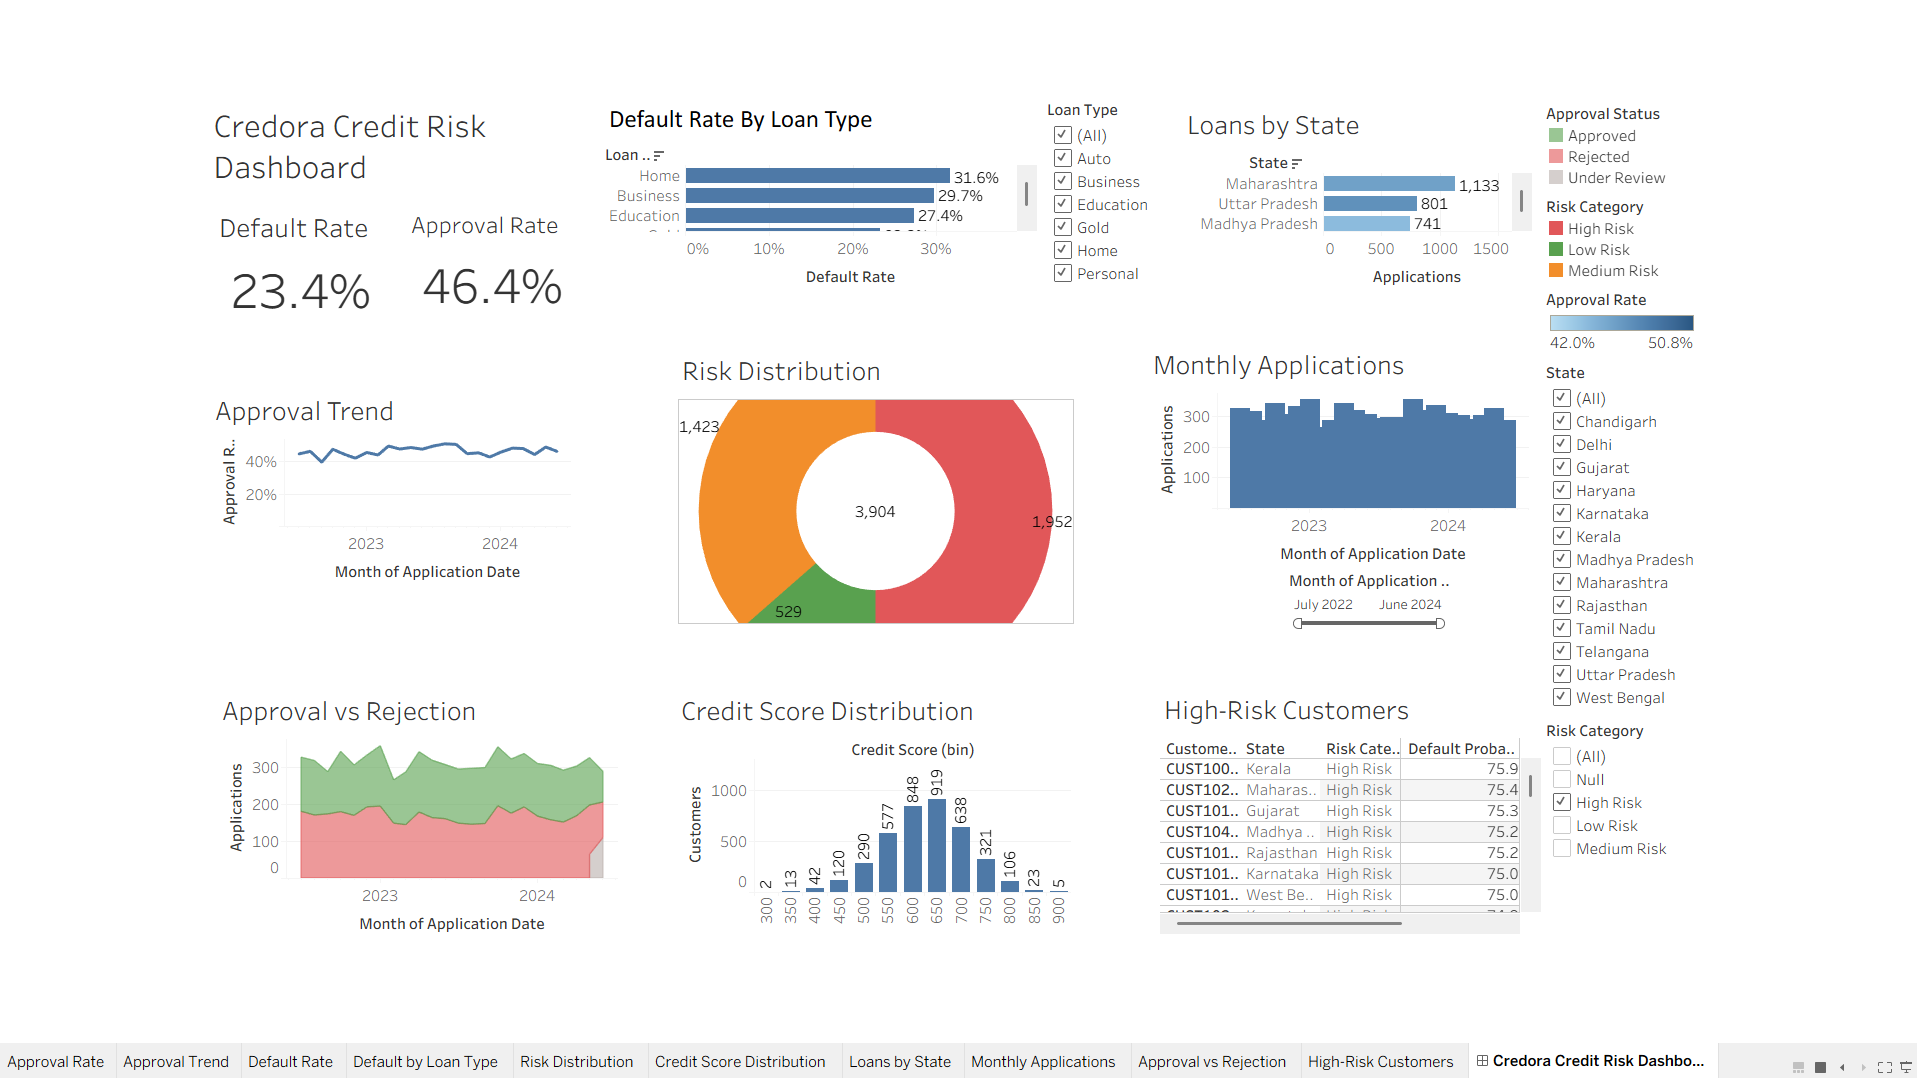

Layout of this report page (visuals, bound fields, positions):
{"tool":"tableau","page":{"name":"Credora Credit Risk Dashboard","canvas":[1000,1000],"units":"permille","ordinal":0},"visuals":[{"type":"title","box":[0,1.2,237.3,125.6]},{"type":"worksheet","title":"Default by Loan Type","mark":"Automatic","rows":["loan_type"],"cols":["Calculation_1995118488203266"],"box":[263.3,9.4,288,226.5]},{"type":"filter","title":"Default by Loan Type","param":"[federated.1afcsks0td4zrq13pm63h0dmnwhx].[none:loan_type:nk]","box":[558,9.4,89.3,221.8]},{"type":"legend","title":"Approval vs Rejection","param":"[federated.1afcsks0td4zrq13pm63h0dmnwhx].[none:approval_status:nk]","box":[888,9.4,106.7,109.2]},{"type":"worksheet","title":"Loans by State","mark":"Automatic","rows":["state"],"cols":["cleaned_loan_applications.csv_37ABFD2499FA445DAECE2819F01DAC"],"box":[648.7,14.1,232.7,221.8]},{"type":"legend","title":"Risk Distribution","param":"[federated.1afcsks0td4zrq13pm63h0dmnwhx].[none:risk_category:nk]","box":[888,118.5,106.7,109.2]},{"type":"worksheet","title":"Approval Rate","mark":"Automatic","box":[131.3,132.6,129.3,138.5]},{"type":"worksheet","title":"Default Rate","mark":"Automatic","box":[3.3,133.8,128,152.6]},{"type":"legend","title":"Loans by State","param":"[federated.1afcsks0td4zrq13pm63h0dmnwhx].[usr:Calculation_1995118458306561:qk]","box":[888,227.7,106.7,85.7]},{"type":"worksheet","title":"Monthly Applications","mark":"Bar","rows":["cleaned_loan_applications.csv_37ABFD2499FA445DAECE2819F01DAC"],"cols":["application_date"],"box":[626,293.4,253.3,265.3]},{"type":"worksheet","title":"Risk Distribution","mark":"Pie","rows":["Calculation_1995118498983940","Calculation_1995118499053574"],"box":[312,300.5,264,319.2]},{"type":"filter","title":"High-Risk Customers","param":"[federated.1afcsks0td4zrq13pm63h0dmnwhx].[none:state:nk]","box":[888,313.4,106.7,420.2]},{"type":"worksheet","title":"Approval Trend","mark":"Automatic","rows":["Calculation_1995118458306561"],"cols":["application_date"],"box":[0.7,346.2,240,232.4]},{"type":"filter","title":"Monthly Applications","param":"[federated.1afcsks0td4zrq13pm63h0dmnwhx].[tmn:application_date:qk]","box":[719.3,557.5,106.7,76.3]},{"type":"worksheet","title":"High-Risk Customers","mark":"Automatic","rows":["customer_id (scored_customers.csv)","state","risk_category"],"box":[633.3,693.7,254,286.4]},{"type":"worksheet","title":"Approval vs Rejection","mark":"Area","rows":["cleaned_loan_applications.csv_37ABFD2499FA445DAECE2819F01DAC"],"cols":["application_date"],"box":[5.3,694.8,266.7,293.4]},{"type":"worksheet","title":"Credit Score Distribution","mark":"Automatic","rows":["cleaned_credit_history.csv_E69D3ECA5511453E9EB7B6108B768432"],"cols":["Credit Score (bin)"],"box":[311.3,694.8,262.7,282.9]},{"type":"filter","title":"High-Risk Customers","param":"[federated.1afcsks0td4zrq13pm63h0dmnwhx].[none:risk_category:nk]","box":[888,733.6,106.7,177.2]}]}

Visuals, with their boxes on the dashboard's canvas, which has no fixed pixel size, in thousandths of its width and height (x1, y1, x2, y2). These are canvas units, not pixel positions in the 1917x1078 screenshot, which may show the page scaled, cropped or inside an application window:
title: BBox(0, 1, 237, 127)
"Default by Loan Type" worksheet: BBox(263, 9, 551, 236)
"Default by Loan Type" filter: BBox(558, 9, 647, 231)
"Approval vs Rejection" legend: BBox(888, 9, 995, 119)
"Loans by State" worksheet: BBox(649, 14, 881, 236)
"Risk Distribution" legend: BBox(888, 118, 995, 228)
"Approval Rate" worksheet: BBox(131, 133, 261, 271)
"Default Rate" worksheet: BBox(3, 134, 131, 286)
"Loans by State" legend: BBox(888, 228, 995, 313)
"Monthly Applications" worksheet (Bar marks): BBox(626, 293, 879, 559)
"Risk Distribution" worksheet (Pie marks): BBox(312, 300, 576, 620)
"High-Risk Customers" filter: BBox(888, 313, 995, 734)
"Approval Trend" worksheet: BBox(1, 346, 241, 579)
"Monthly Applications" filter: BBox(719, 558, 826, 634)
"High-Risk Customers" worksheet: BBox(633, 694, 887, 980)
"Approval vs Rejection" worksheet (Area marks): BBox(5, 695, 272, 988)
"Credit Score Distribution" worksheet: BBox(311, 695, 574, 978)
"High-Risk Customers" filter: BBox(888, 734, 995, 911)
